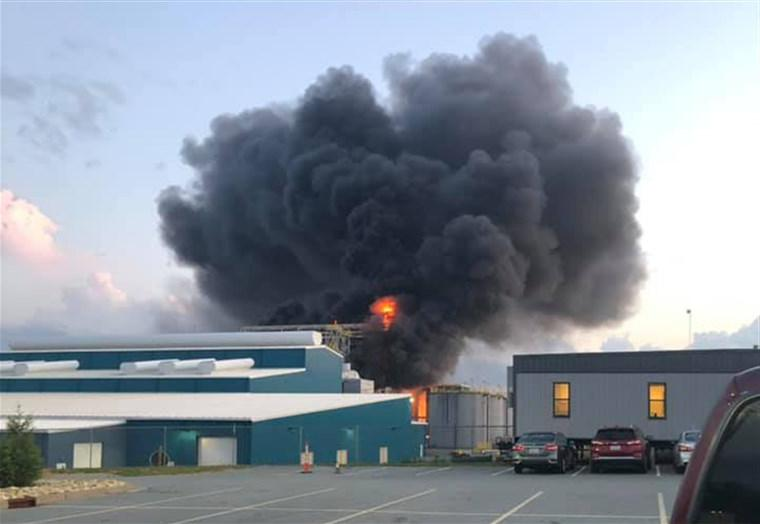fire: (366, 292, 399, 326)
